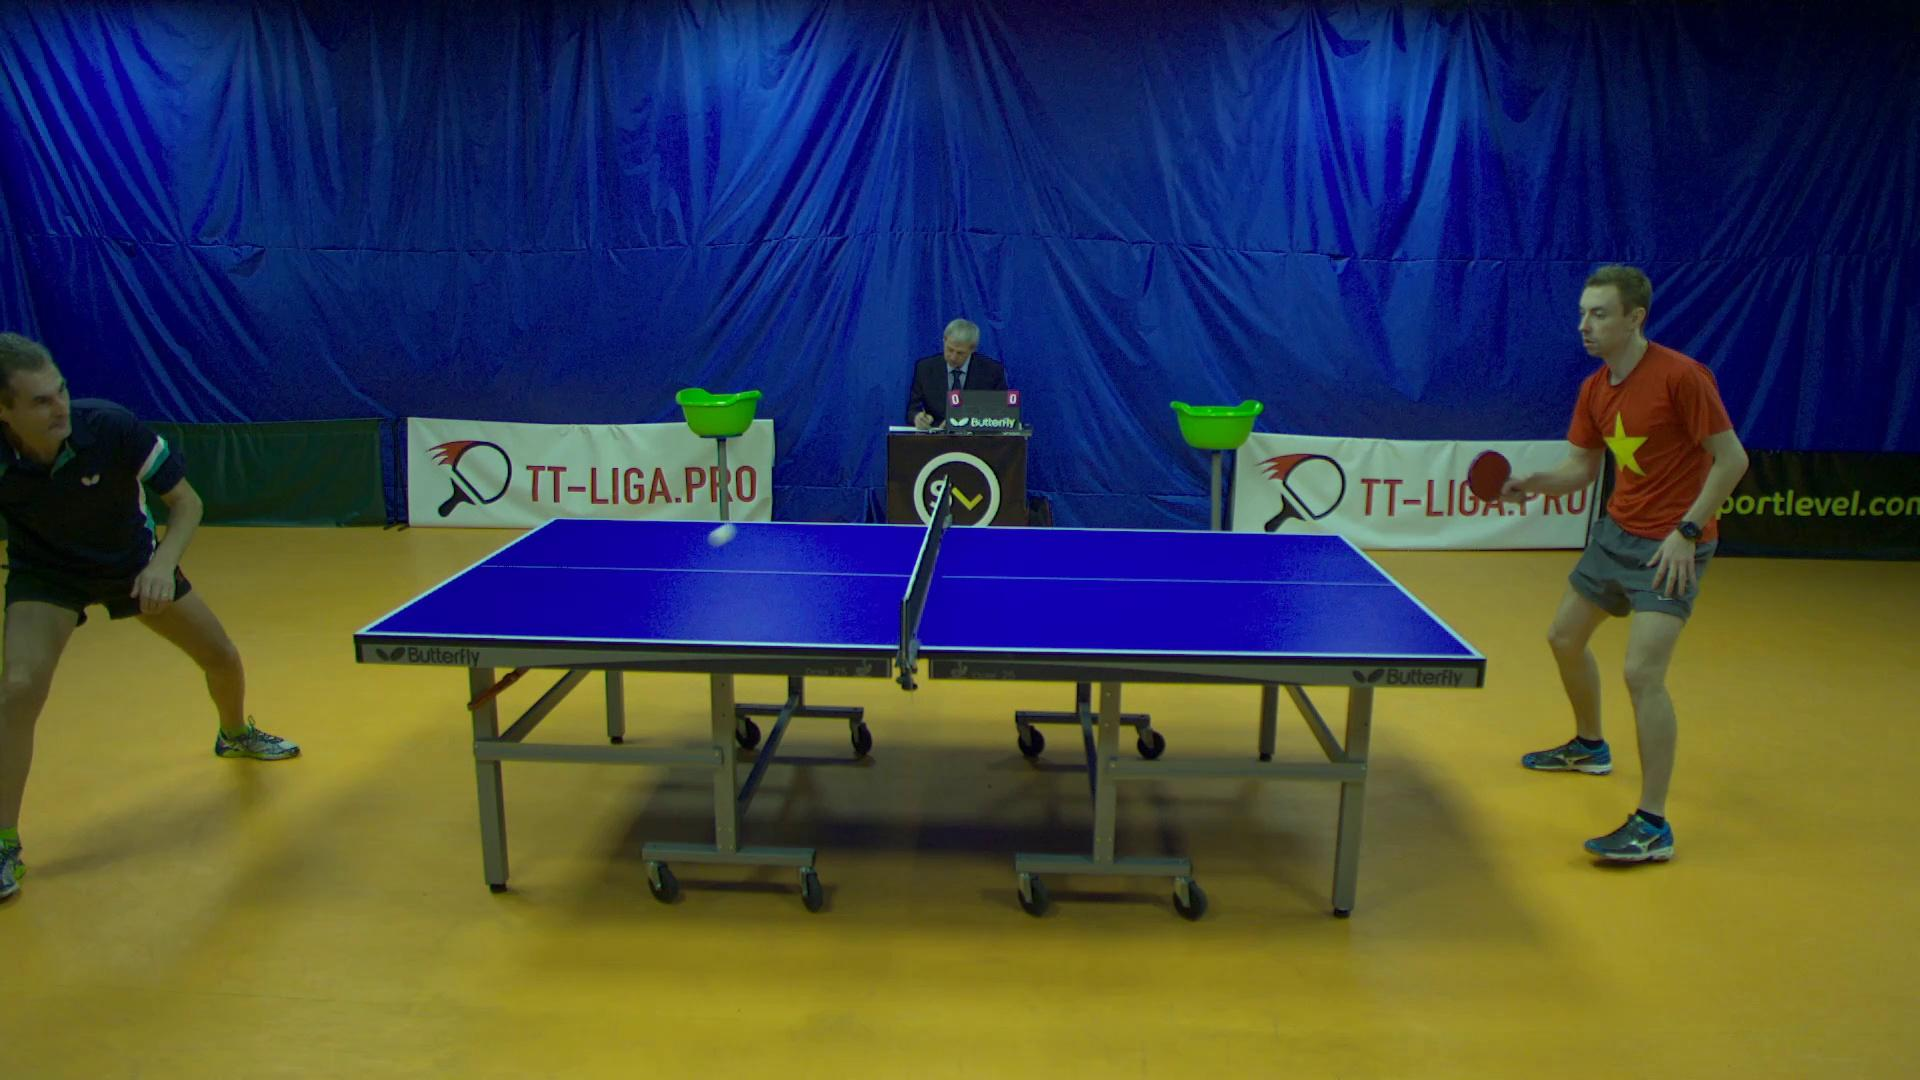ball: (702, 520, 740, 550)
